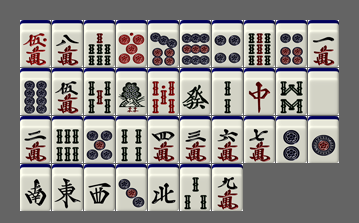0m: (20, 20, 51, 67)
0p: (116, 20, 147, 67)
0s: (148, 68, 179, 115)
1m: (308, 20, 339, 67)
1p: (308, 116, 339, 163)
1s: (116, 68, 147, 115)
1z: (52, 164, 83, 211)
2m: (20, 116, 51, 163)
2p: (276, 116, 307, 163)
2s: (212, 68, 243, 115)
2z: (20, 164, 51, 211)
3m: (180, 116, 211, 163)
3p: (116, 164, 147, 211)
3s: (180, 164, 211, 211)
3z: (84, 164, 115, 211)
4m: (148, 116, 179, 163)
4p: (212, 20, 243, 67)
4s: (116, 116, 147, 163)
4z: (148, 164, 179, 211)
5m: (52, 68, 83, 115)
5p: (84, 116, 115, 163)
5s: (84, 68, 115, 115)
5z: (308, 68, 339, 115)
6m: (212, 116, 243, 163)
6p: (276, 20, 307, 67)
6s: (52, 116, 83, 163)
6z: (180, 68, 211, 115)
7m: (244, 116, 275, 163)
7p: (148, 20, 179, 67)
7s: (84, 20, 115, 67)
7z: (244, 68, 275, 115)
8m: (52, 20, 83, 67)
8p: (20, 68, 51, 115)
8s: (276, 68, 307, 115)
9m: (212, 164, 243, 211)
9p: (180, 20, 211, 67)
9s: (244, 20, 275, 67)
